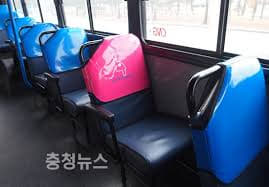seat: (83, 33, 196, 164)
